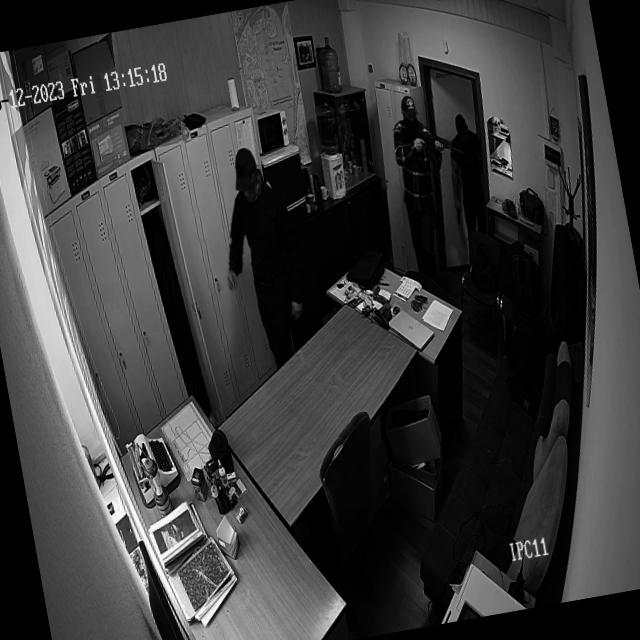gun: (396, 115, 466, 168), (454, 195, 469, 234)
person: (206, 142, 316, 376)
person with a gun: (386, 85, 484, 278), (436, 98, 499, 254)
